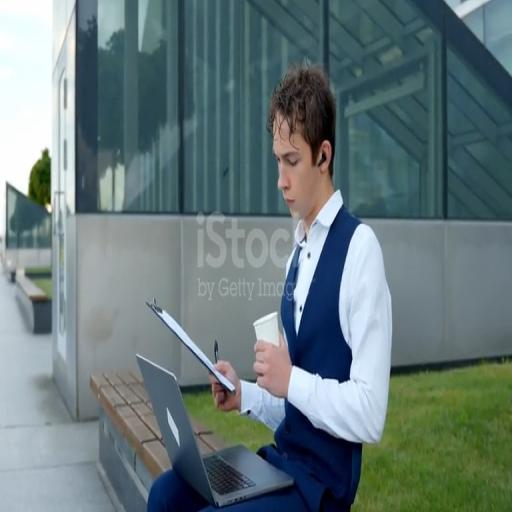earphone: (318, 142, 332, 172)
